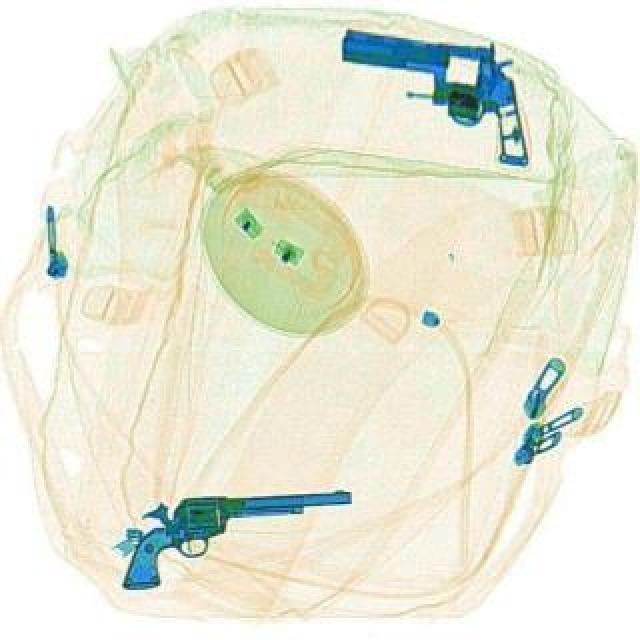gun: (326, 30, 542, 164), (114, 486, 354, 590)
